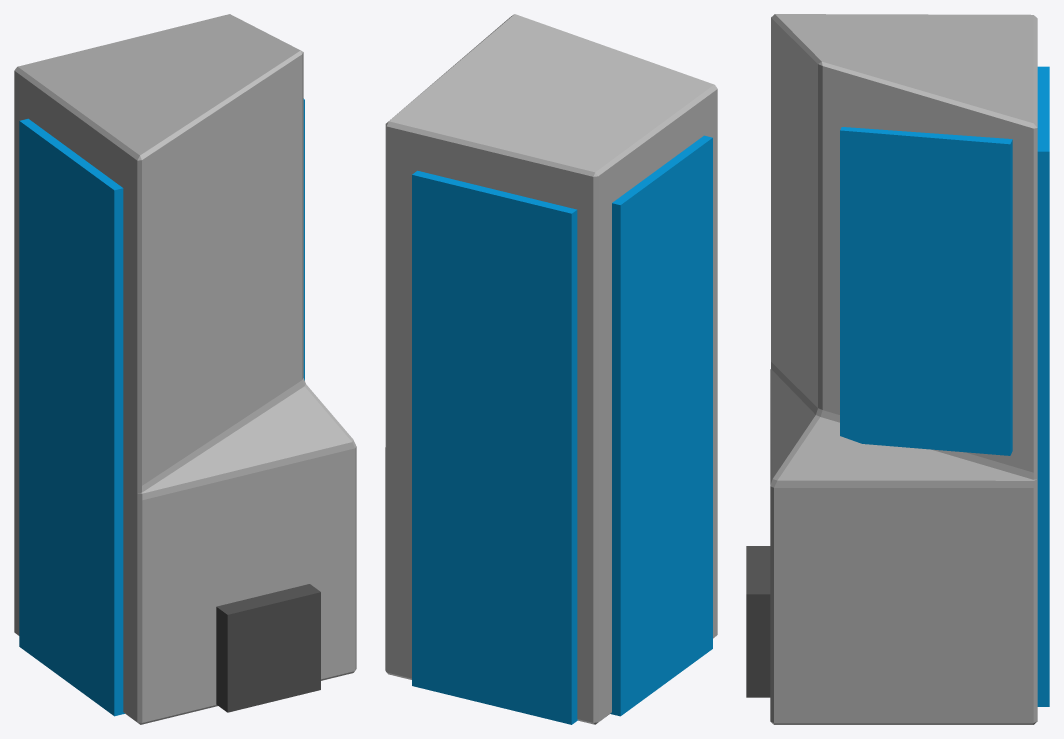
Rendered from Building1.fbx.
The picture shows the model from 3 angles, left to right: view 1: azimuth 30°, elevation 25°; view 2: azimuth 150°, elevation 25°; view 3: azimuth 270°, elevation 25°; orthographic projection. The views are drawn at different scales.
Parts seen in each view (by area): view 1: Cube, Cube.001, Cube.004, Cube.003; view 2: Cube.002, Cube, Cube.001; view 3: Cube, Cube.003, Cube.002, Cube.004.
Part boxes in pixels (box(x1,y1,x2,y2)): Cube: box(14, 14, 356, 724); Cube.001: box(19, 118, 124, 716); Cube.004: box(216, 584, 320, 712); Cube.003: box(303, 98, 304, 380); Cube.002: box(412, 170, 577, 724); Cube: box(385, 14, 717, 724); Cube.001: box(610, 135, 712, 716); Cube: box(770, 14, 1037, 724); Cube.003: box(840, 127, 1012, 455); Cube.002: box(1037, 66, 1049, 706); Cube.004: box(746, 546, 770, 697).
Size of the model in its own units: 214 by 535 by 227.
